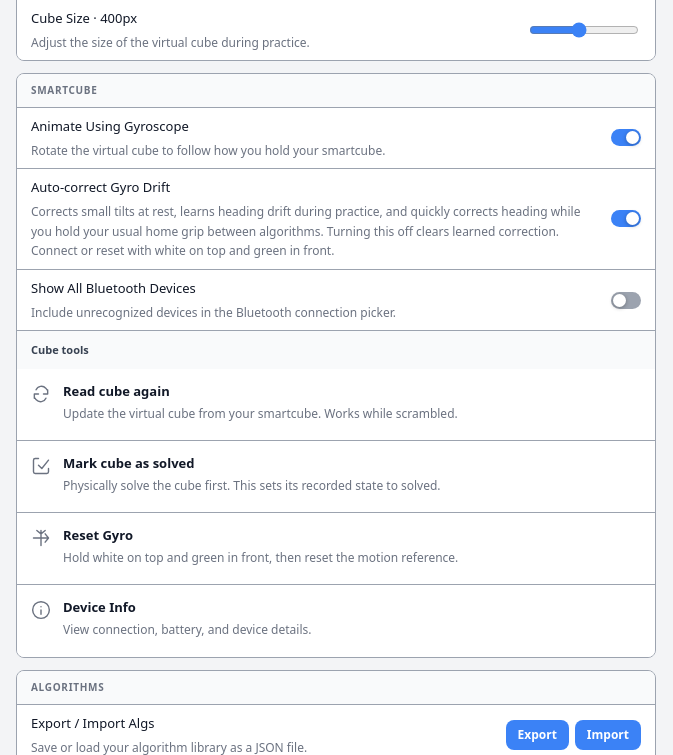
Test: OptionsView › shows a failed cube read and lets the user retry from Options
(page scrolled)
Step 1. Click the button "Read cube again" → (336, 405), box [17,369,655,441]
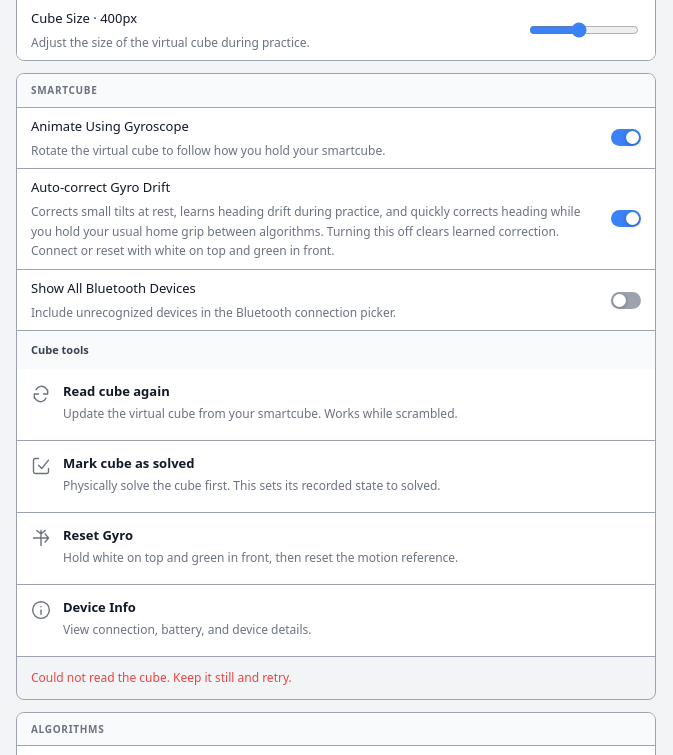
Expected: the message shows "Keep it still and retry.", [31,669,292,686]
Step 2. Click the button "Read cube again" → (336, 405), box [17,369,655,441]
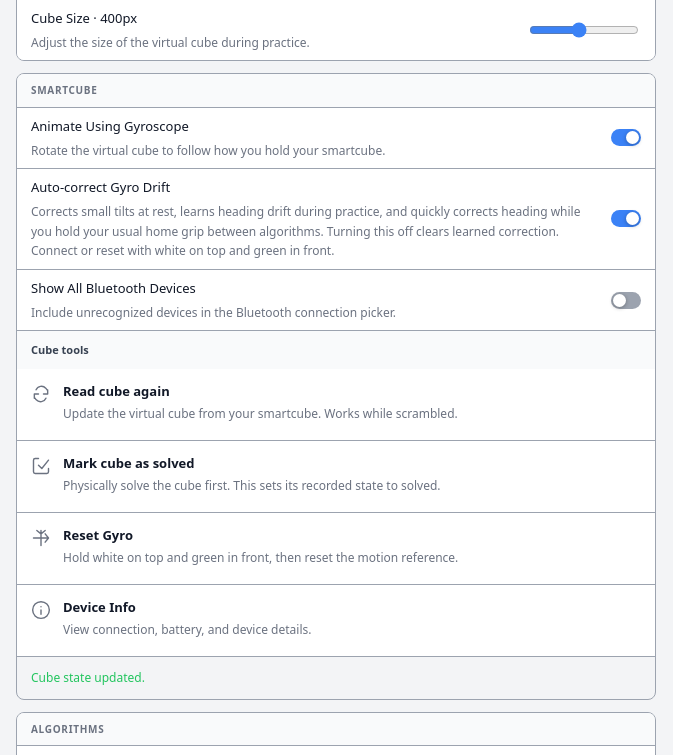
Expected: the message reads "Cube state updated.", [31,669,145,686]
